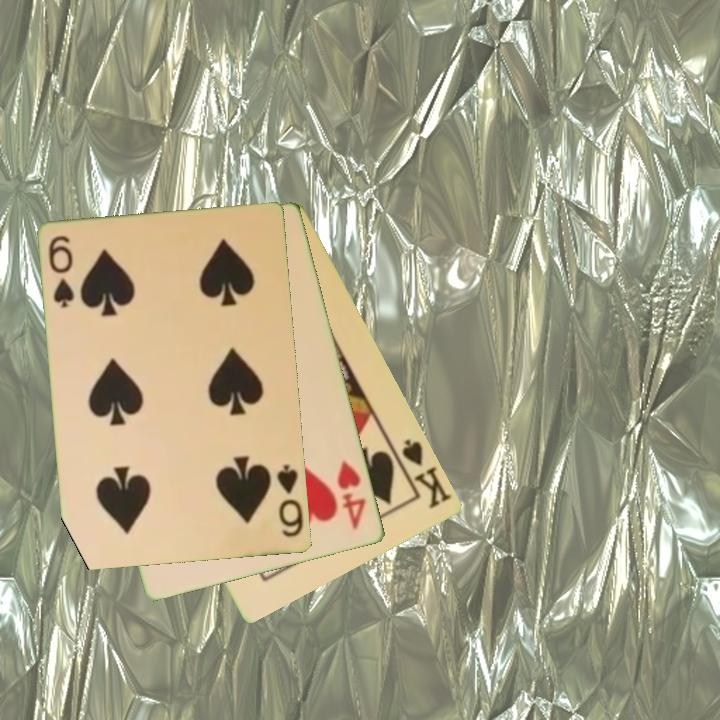4h: (334, 457, 369, 533)
6s: (273, 461, 307, 540), (45, 232, 78, 311)
Ks: (388, 435, 455, 512)
